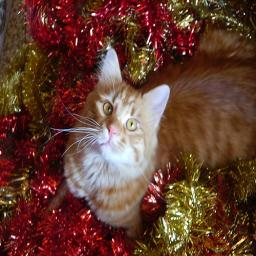catnose: (106, 124, 119, 138)
